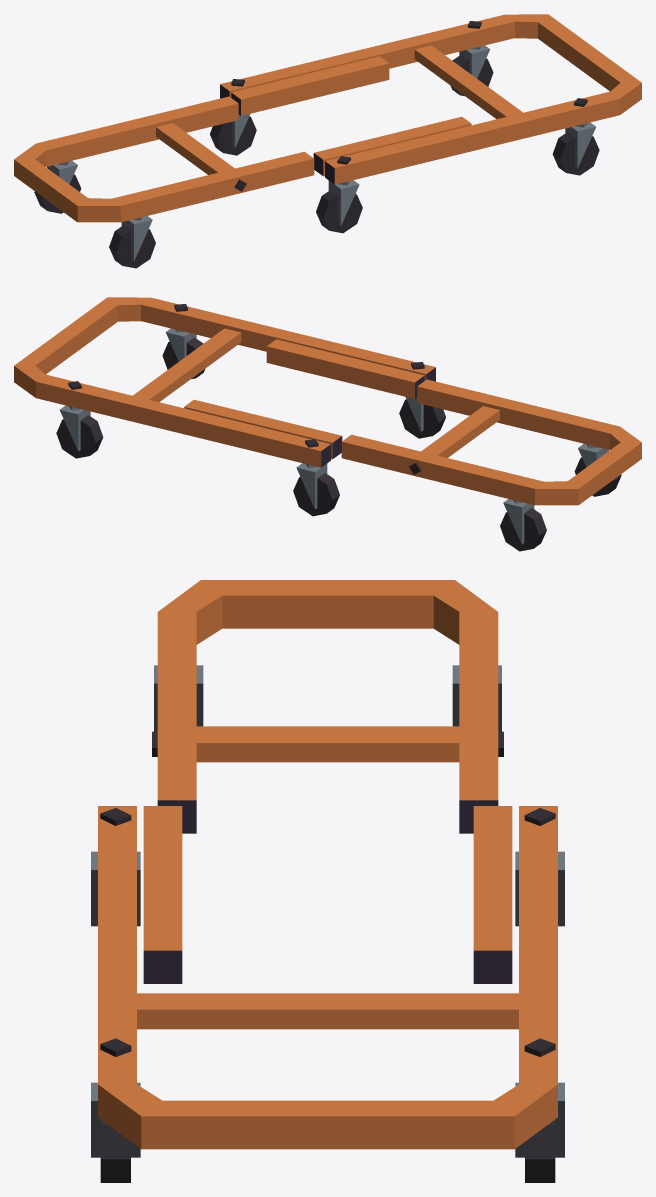
The model's file is GarageSeat.fbx.
3 renders of one model, top to bottom at view 1: azimuth 30°, elevation 25°; view 2: azimuth 150°, elevation 25°; view 3: azimuth 270°, elevation 25°, orthographic. The views are drawn at different scales.
Parts seen in each view (by area): view 1: Frame, Wheels; view 2: Frame, Wheels; view 3: Frame, Wheels.
Boxes of the visible parts, x1,y1,x2,y2 form: Frame: (14,14,641,222); Wheels: (34,21,599,268); Frame: (14,297,641,505); Wheels: (56,304,621,551); Frame: (98,580,557,1149); Wheels: (91,665,564,1182).
Bounding box in the file's own units: 2.17 × 0.2667 × 0.8114.
